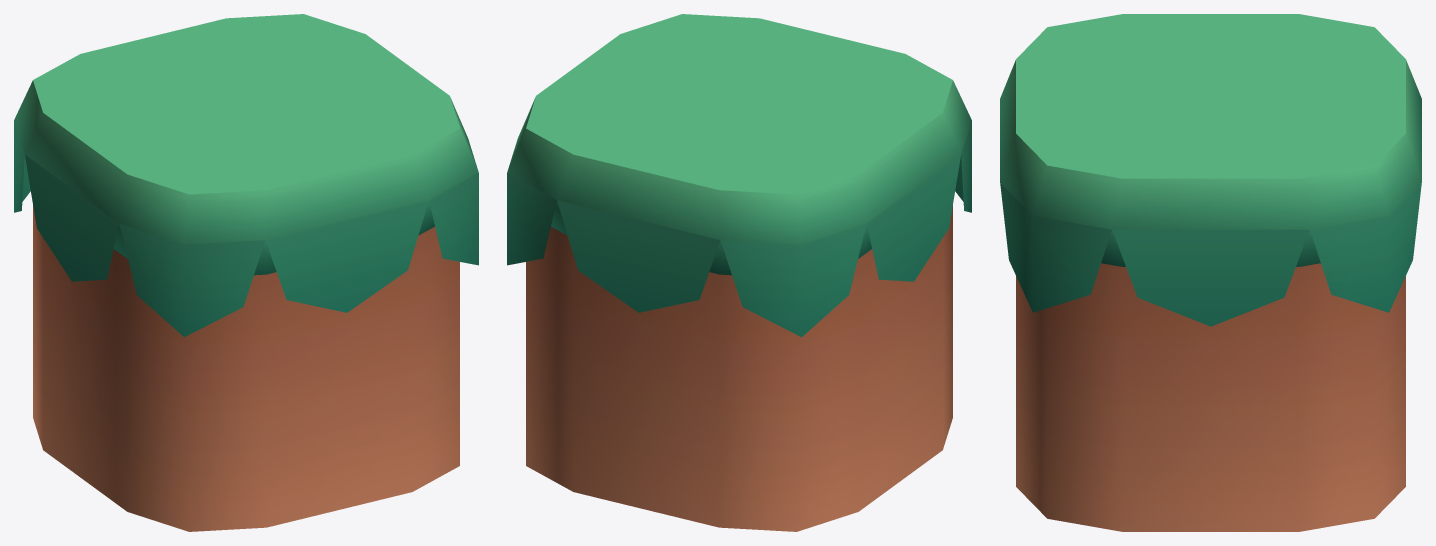
File: kenney-platformer-block-grass-overhang-corner.glb
3 views of the same model, side by side, from view 1: azimuth 30°, elevation 25°; view 2: azimuth 150°, elevation 25°; view 3: azimuth 270°, elevation 25° (orthographic). The views are drawn at different scales.
Visible parts, largest first — view 1: block-grass-overhang-corner; view 2: block-grass-overhang-corner; view 3: block-grass-overhang-corner.
Part boxes in pixels (x1=…): block-grass-overhang-corner: x1=14, y1=14, x2=478, y2=531; block-grass-overhang-corner: x1=507, y1=14, x2=971, y2=531; block-grass-overhang-corner: x1=1000, y1=14, x2=1421, y2=531.
Bounding box in the file's own units: 1.08 × 1 × 1.08.
Materials: 1 (1 with a texture image).
